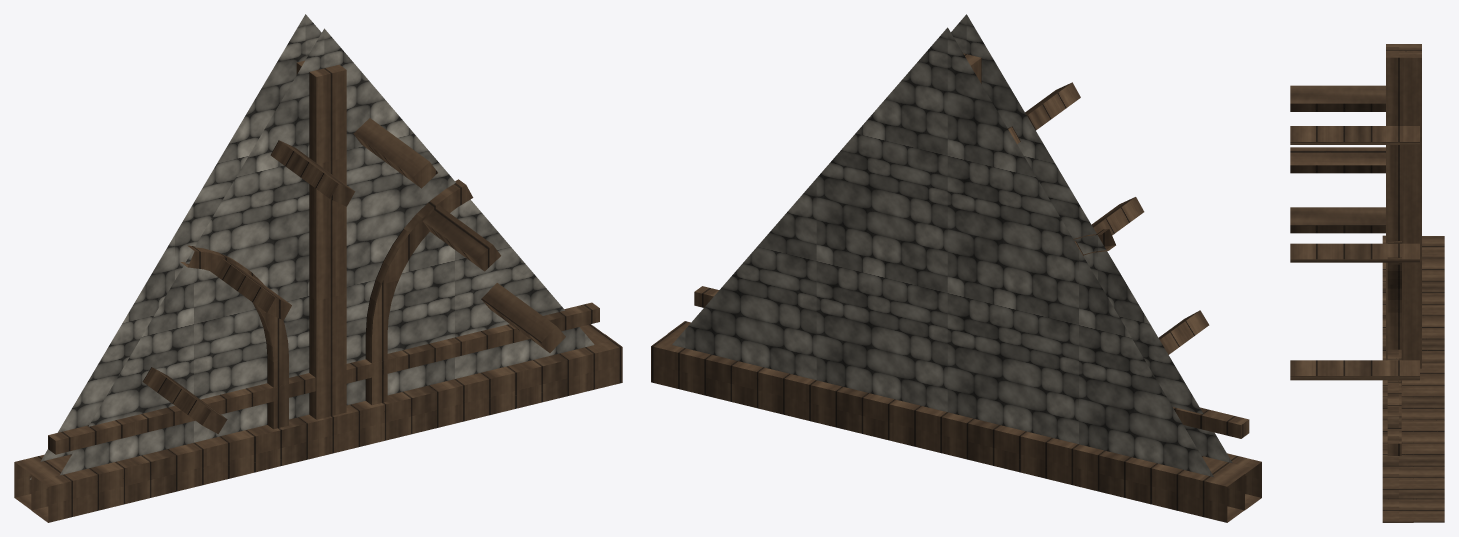
Rendered from Roof_Front_DryStone4.gltf.
3 renders of one model, left to right at view 1: azimuth 30°, elevation 25°; view 2: azimuth 150°, elevation 25°; view 3: azimuth 270°, elevation 25°, orthographic. The views are drawn at different scales.
Parts seen in each view (by area): view 1: Roof_Front_DryStone4; view 2: Roof_Front_DryStone4; view 3: Roof_Front_DryStone4.
Boxes of the visible parts, bbox=[...] form: Roof_Front_DryStone4: bbox=[14, 14, 622, 522]; Roof_Front_DryStone4: bbox=[651, 14, 1261, 522]; Roof_Front_DryStone4: bbox=[1290, 44, 1444, 522].
Size of the model in its own units: 4.4 by 3.07 by 1.13.
Materials: 2 (2 with a texture image).
